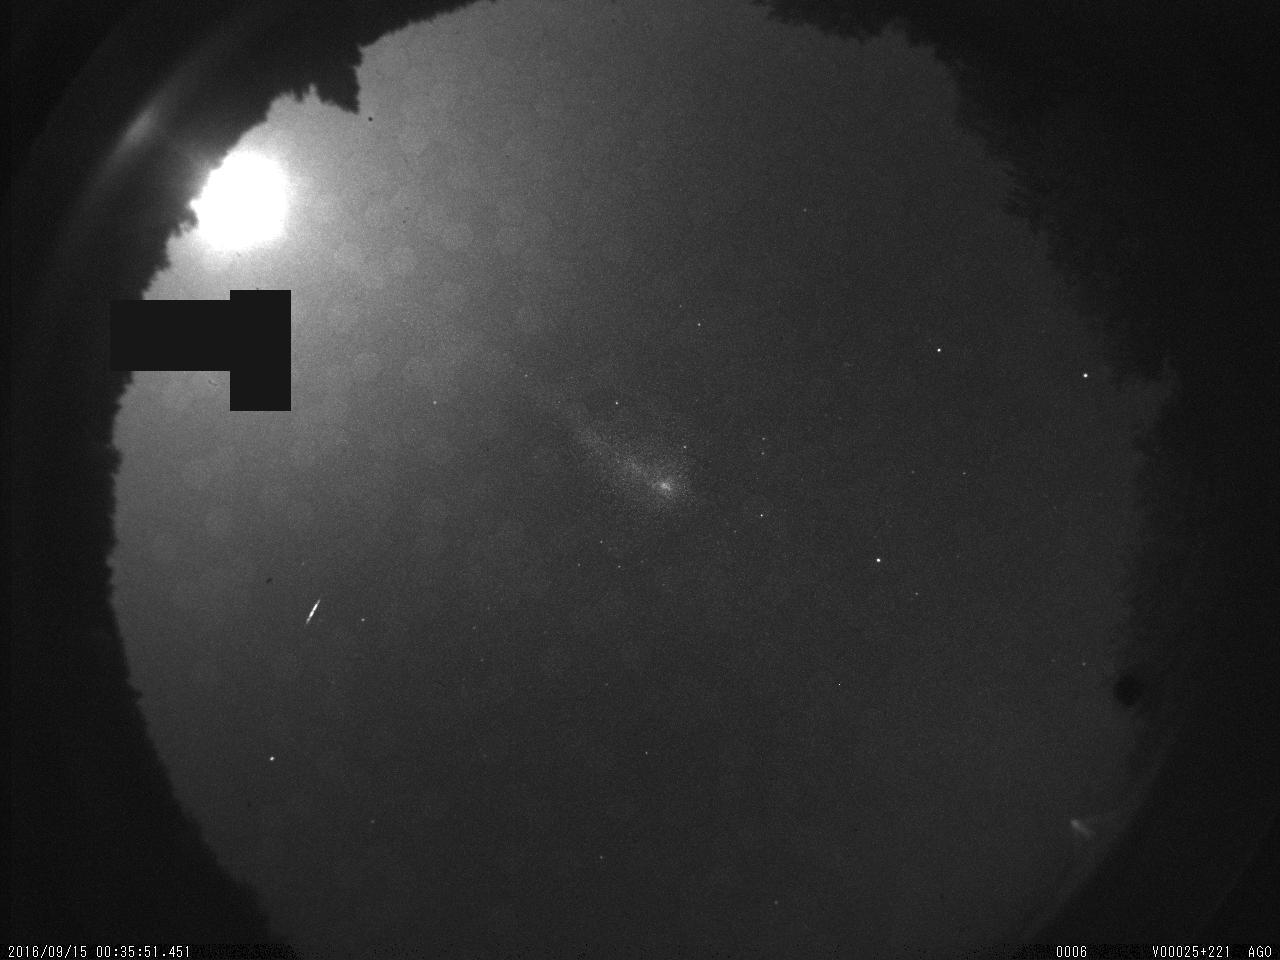meteor: (301, 590, 329, 631)
